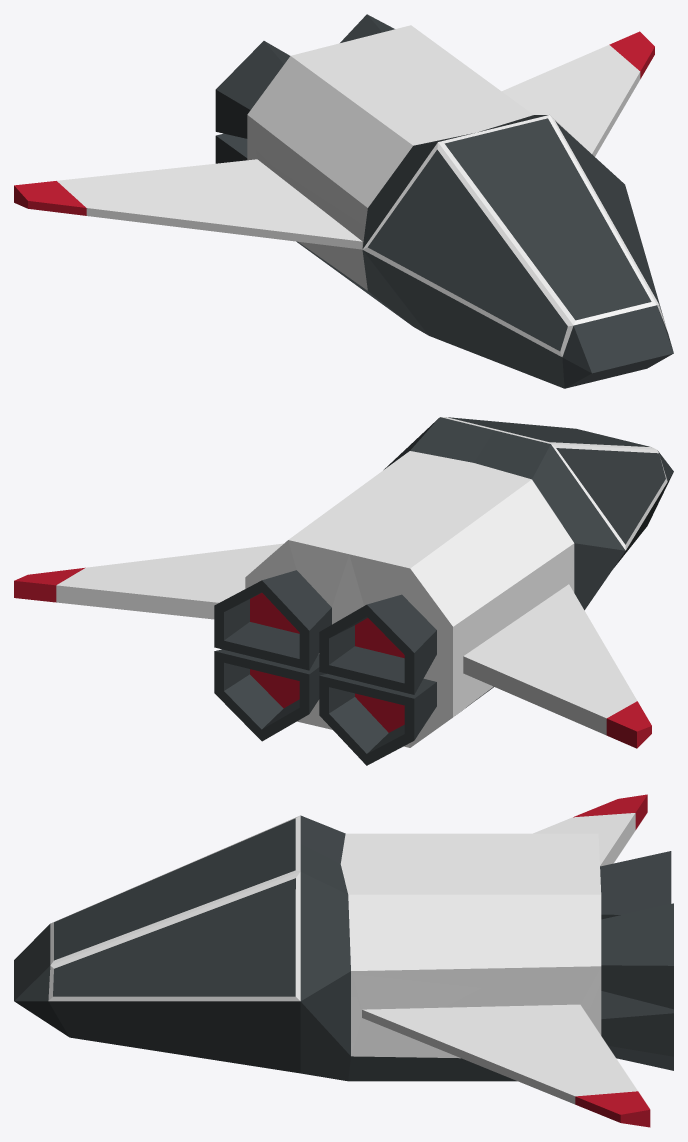
The model's file is quipus-city-shuttle.glb.
The picture shows the model from 3 angles, top to bottom: view 1: azimuth 30°, elevation 25°; view 2: azimuth 150°, elevation 25°; view 3: azimuth 270°, elevation 25°; orthographic projection. The views are drawn at different scales.
Visible parts, largest first — view 1: Quipus city shuttle; view 2: Quipus city shuttle; view 3: Quipus city shuttle.
Part boxes in pixels (x1,y1,x2,y2): Quipus city shuttle: [14, 14, 673, 388]; Quipus city shuttle: [14, 417, 673, 765]; Quipus city shuttle: [14, 794, 673, 1127].
Size of the model in its own units: 3.22 by 0.9798 by 2.84.
